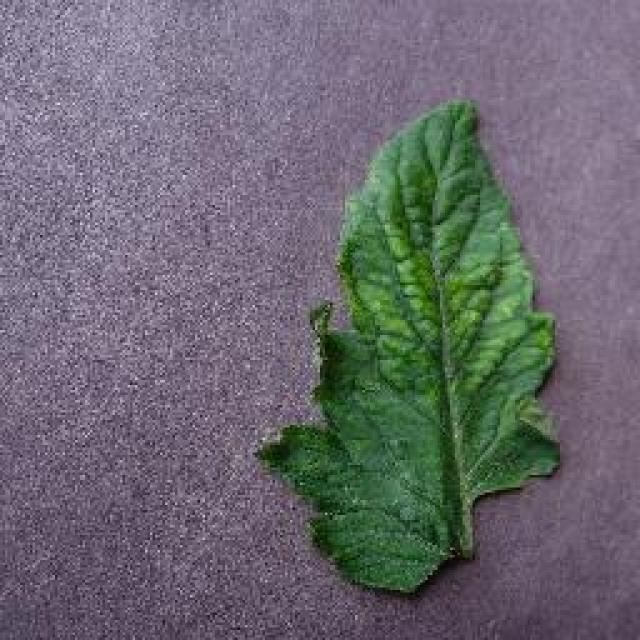Tomato spider mites leaf: (256, 94, 566, 591)
